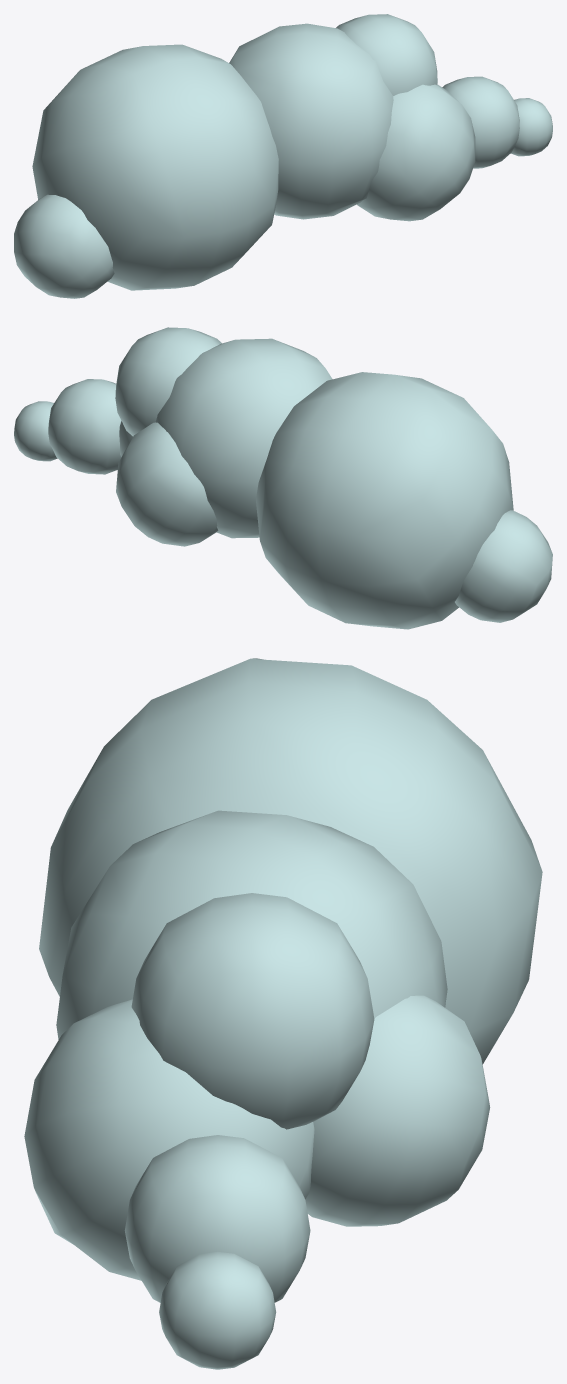
Rendered from atoll_small_cloud.fbx.
3 views of the same model, one above another, from view 1: azimuth 30°, elevation 25°; view 2: azimuth 150°, elevation 25°; view 3: azimuth 270°, elevation 25° (orthographic). The views are drawn at different scales.
Visible parts, largest first — view 1: pCube14, pCube16, pCube18, pCube13, pCube15, pCube19, pCube20; view 2: pCube14, pCube16, pCube17, pCube13, pCube15, pCube19, pCube20; view 3: pCube14, pCube15, pCube16, pCube18, pCube17, pCube19, pCube20.
Boxes of the visible parts, x1,y1,x2,y2 form: pCube14: (32, 44, 278, 290); pCube16: (229, 23, 393, 219); pCube18: (357, 84, 475, 221); pCube13: (14, 194, 114, 298); pCube15: (336, 14, 437, 95); pCube19: (442, 76, 519, 168); pCube20: (511, 98, 552, 156); pCube14: (256, 372, 513, 629); pCube16: (155, 338, 332, 538); pCube17: (116, 422, 218, 546); pCube13: (455, 510, 552, 622); pCube15: (115, 327, 221, 436); pCube19: (48, 379, 121, 474); pCube20: (14, 401, 57, 461); pCube14: (39, 658, 542, 1064); pCube15: (131, 893, 374, 1129); pCube16: (56, 810, 447, 1039); pCube18: (24, 999, 314, 1280); pCube17: (305, 995, 490, 1226); pCube19: (124, 1135, 310, 1302); pCube20: (159, 1251, 276, 1369).
Size of the model in its own units: 8.73 by 3.66 by 3.76.
